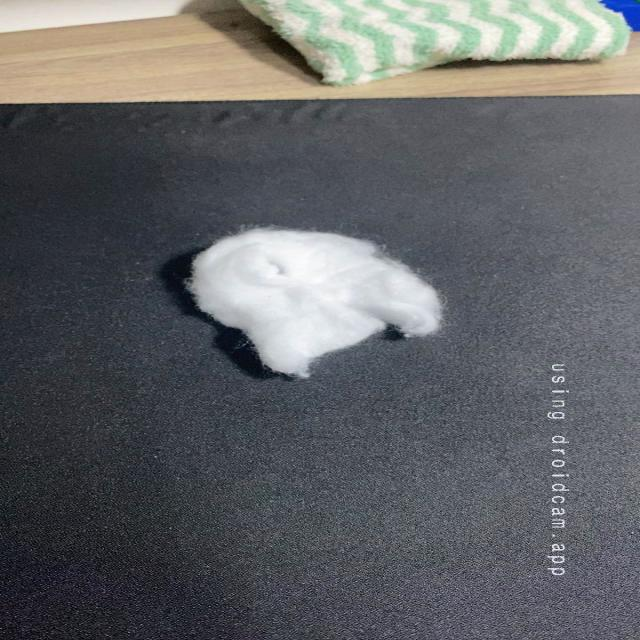cotton: (178, 218, 444, 382)
